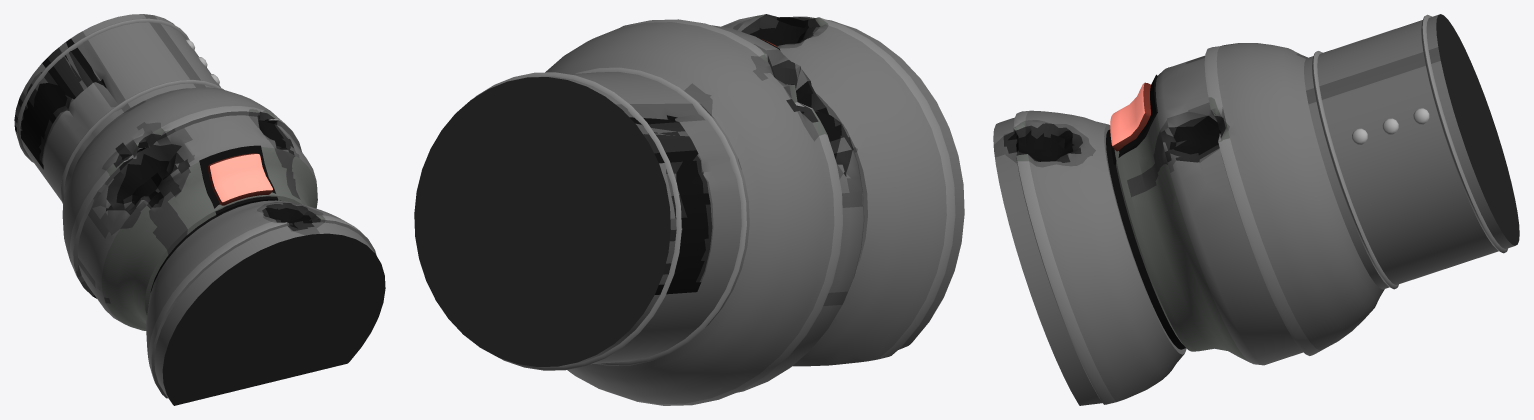
File: red_tower_dmg_shaft.glb
3 views of the same model, side by side, from view 1: azimuth 30°, elevation 25°; view 2: azimuth 150°, elevation 25°; view 3: azimuth 270°, elevation 25° (orthographic). The views are drawn at different scales.
Parts seen in each view (by area): view 1: red_tower_dmg_shaft; view 2: red_tower_dmg_shaft; view 3: red_tower_dmg_shaft.
Boxes of the visible parts, box(x1,y1,x2,y2) form: red_tower_dmg_shaft: box(14, 14, 385, 405); red_tower_dmg_shaft: box(414, 14, 964, 405); red_tower_dmg_shaft: box(993, 14, 1519, 405).
Bounding box in the file's own units: 18.64 × 20.72 × 30.2.
